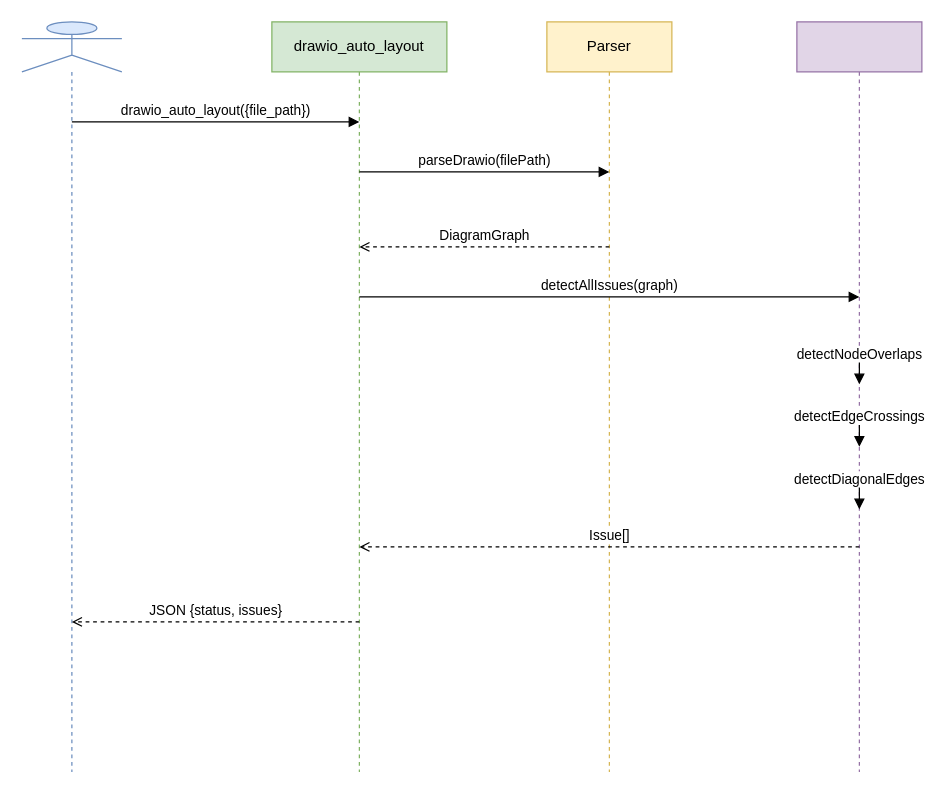
The diagram is 946 pixels wide and 794 high, and some of its shapes have lost their labels. Here are the shapes that lost their labels. From the top down, the box of each, then its label:
(21, 21, 122, 772): AI Agent
(796, 21, 922, 772): Detector
